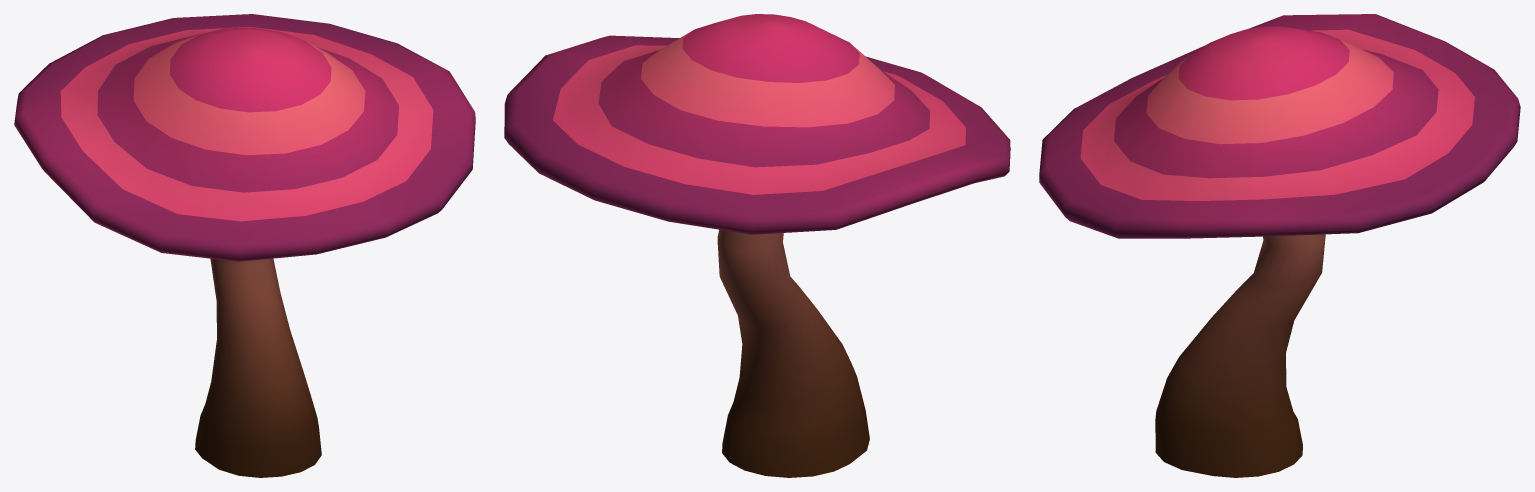
Rendered from Fungus-1-1.fbx.
3 views of the same model, side by side, from view 1: azimuth 30°, elevation 25°; view 2: azimuth 150°, elevation 25°; view 3: azimuth 270°, elevation 25° (orthographic). The views are drawn at different scales.
Parts seen in each view (by area): view 1: Fungus-1-1; view 2: Fungus-1-1; view 3: Fungus-1-1.
Part boxes in pixels (x1=…): Fungus-1-1: x1=14, y1=14, x2=475, y2=477; Fungus-1-1: x1=504, y1=14, x2=1010, y2=477; Fungus-1-1: x1=1039, y1=14, x2=1520, y2=477.
Size of the model in its own units: 62.04 by 57.71 by 60.78.
